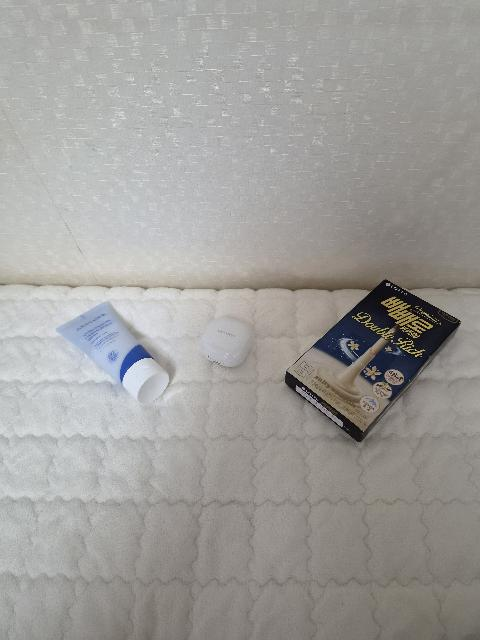earphone_case: (200, 317, 254, 367)
handcream: (55, 302, 170, 404)
pepero: (285, 279, 462, 442)
